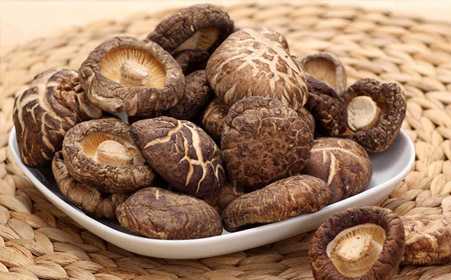B: (121, 187, 230, 244)
H: (213, 24, 314, 105), (221, 100, 314, 179), (14, 68, 90, 164), (136, 114, 223, 188), (311, 129, 372, 191)
